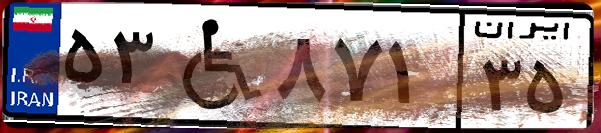1: (385, 28, 445, 110)
3: (475, 38, 525, 113), (110, 28, 158, 98)
5: (57, 26, 110, 100), (525, 38, 570, 115)
7: (330, 28, 385, 110)
8: (270, 28, 330, 110)
ژ (معلولین و جانبازان): (158, 12, 270, 120)
